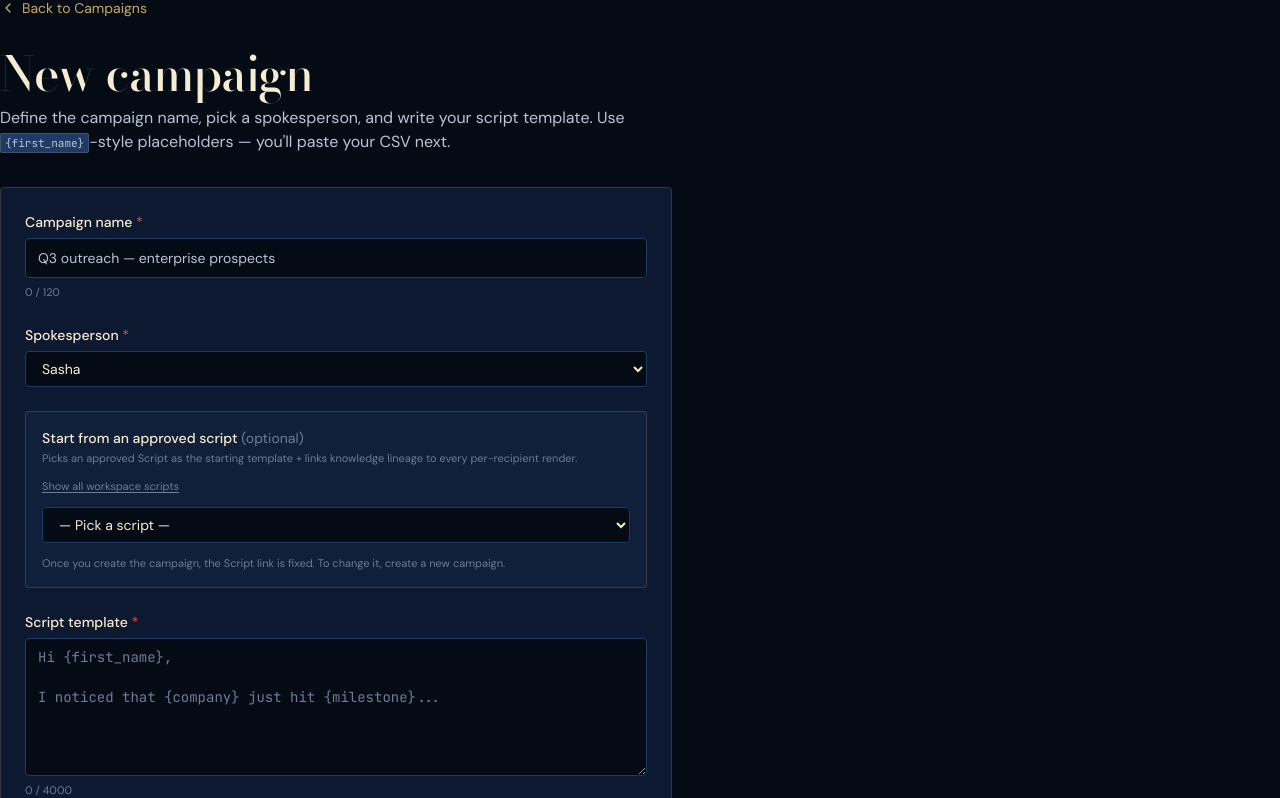
it: CampaignNewRoute BC4 — Script picker › Q-bc-8: 'Use this draft as starting template' copies draft_text verbatim
Select "Five Good Emperors (Sasha)" in the dropdown with test id "script-picker-select". click: x=336, y=524
box: [42, 506, 630, 542]
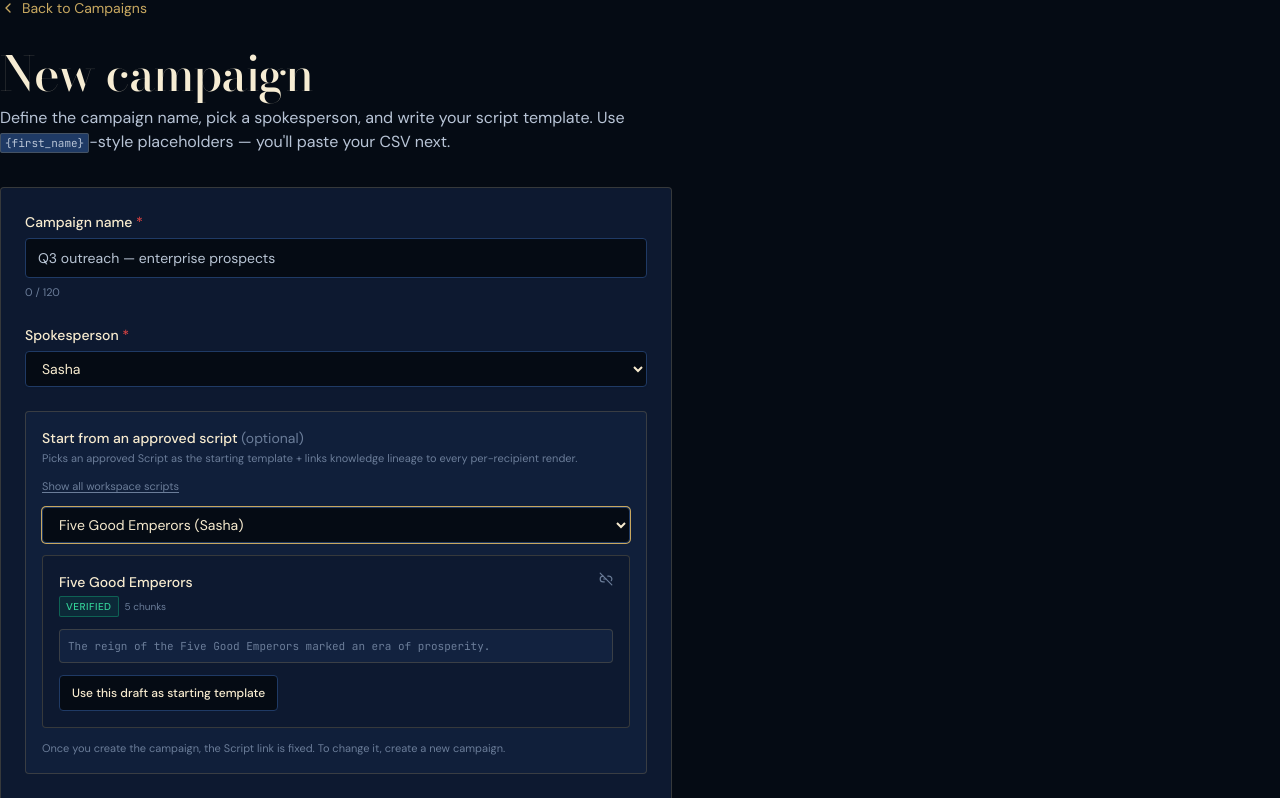
Expected: the button with test id "script-use-as-template-btn" is shown
Click the button with test id "script-use-as-template-btn". click: x=169, y=693
box: [59, 675, 278, 711]
(page scrolled)
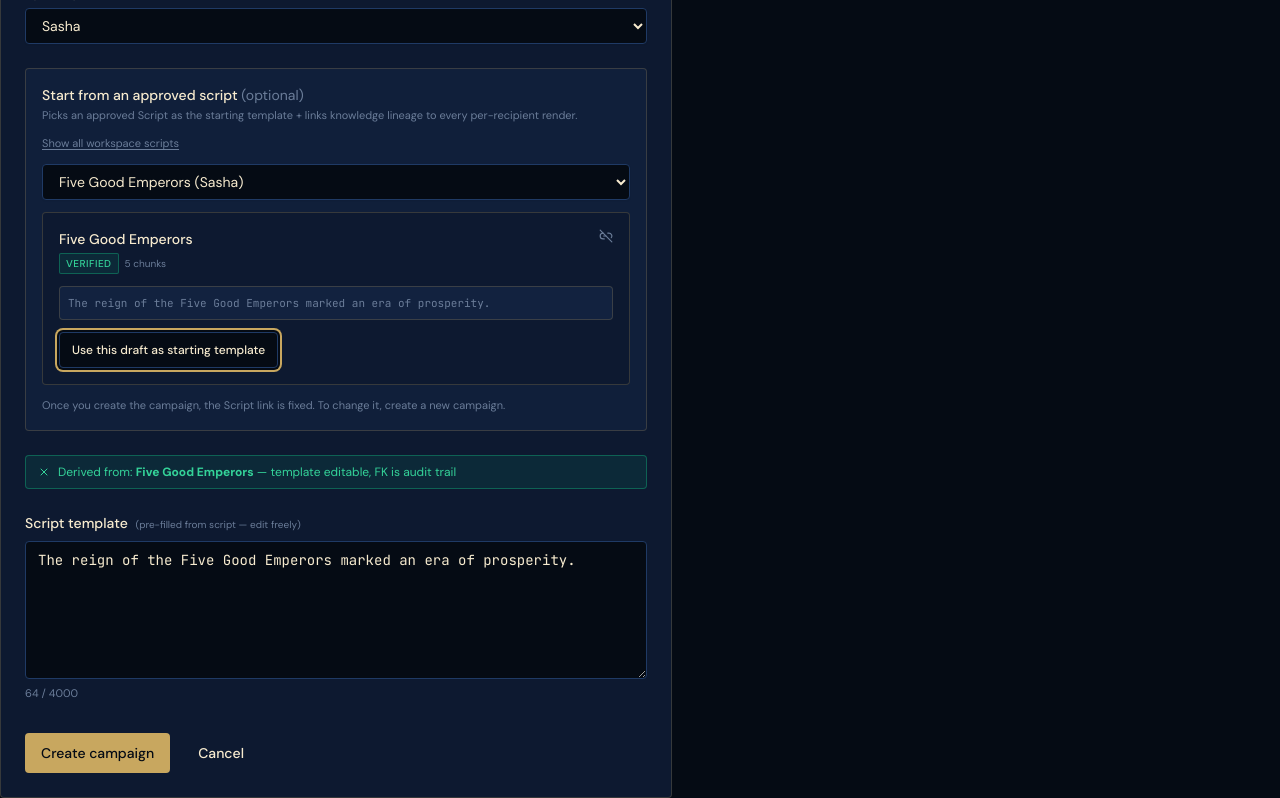
Expected: the text box with test id "campaign-template-input" holds "The reign of the Five Good Emperors marked an era of prosperity.", [25, 540, 647, 678]
